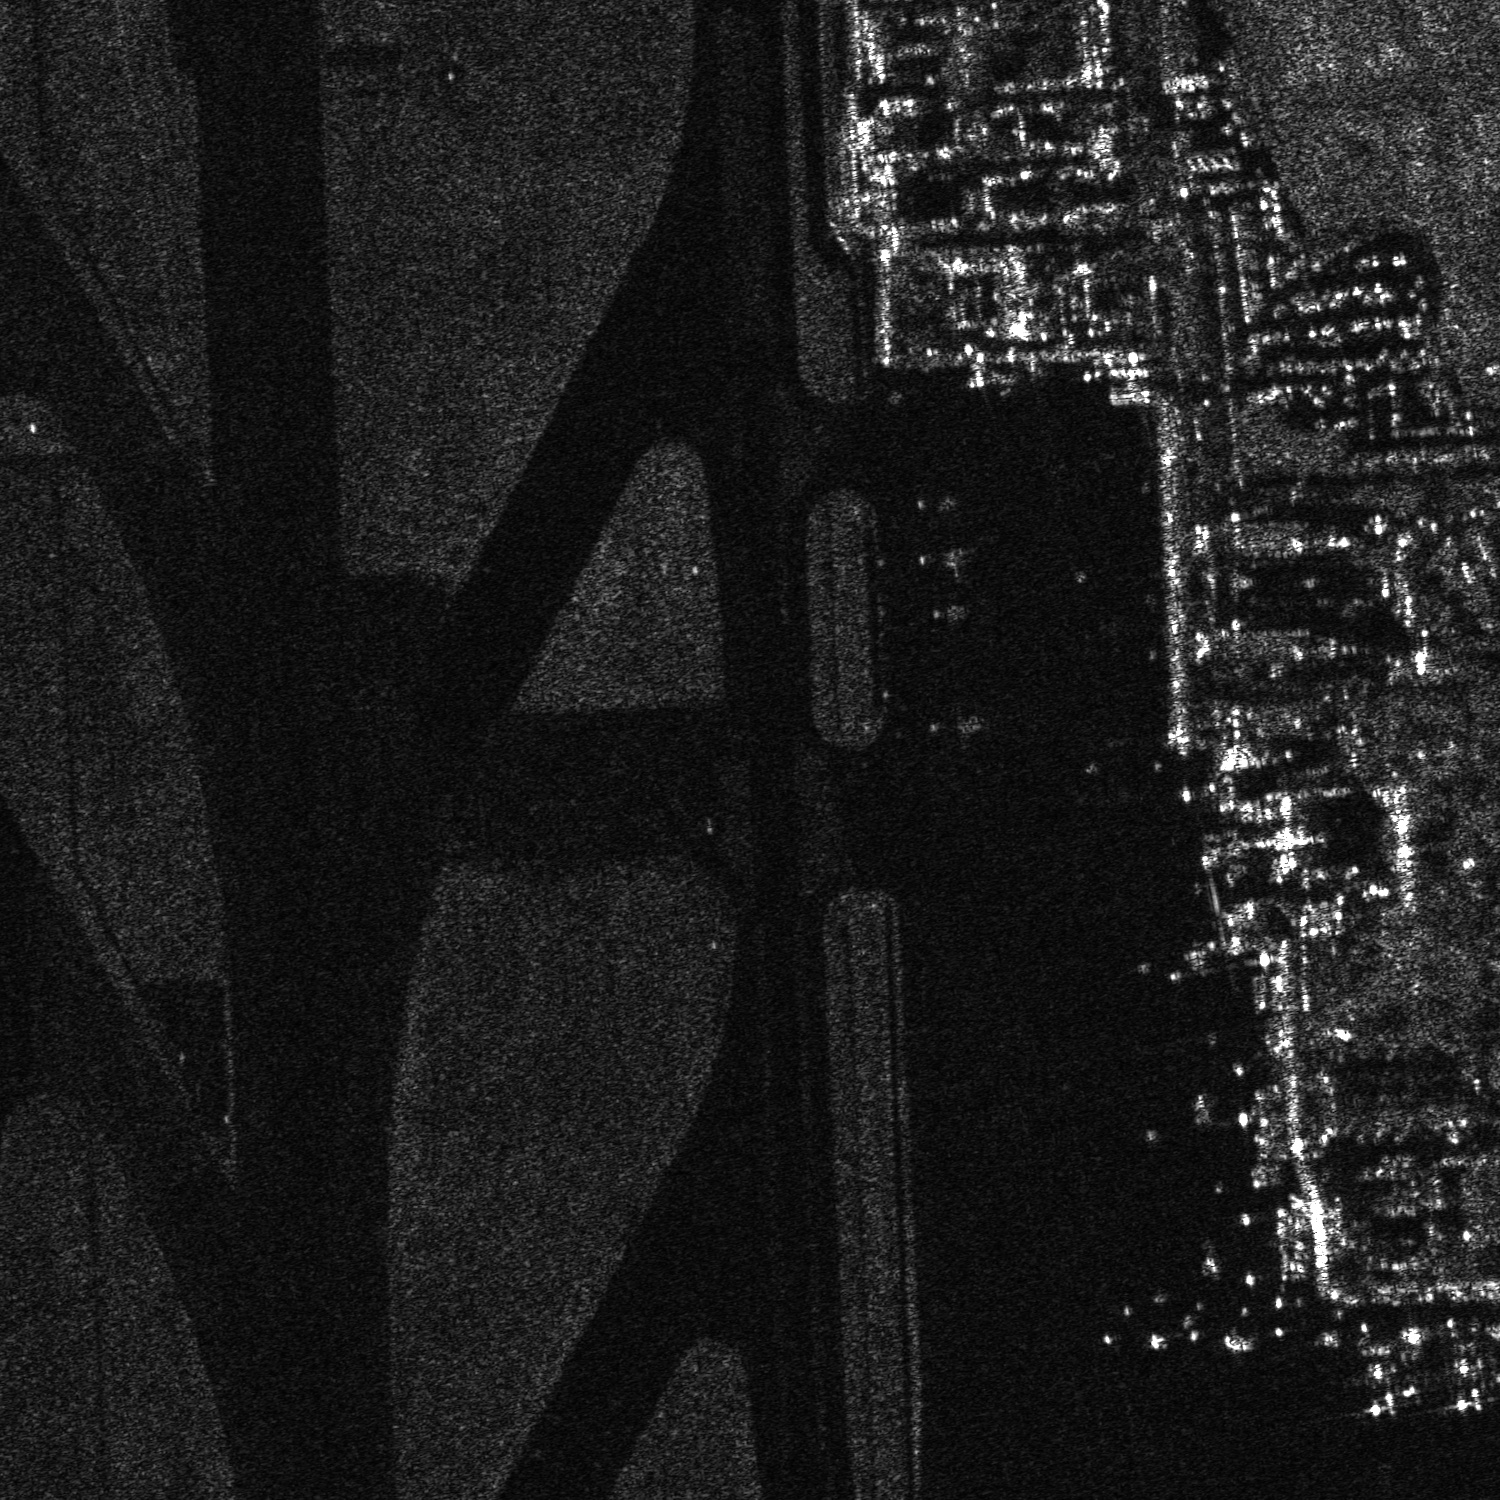ARJ21: (904, 538, 985, 589), (920, 592, 978, 633)
Boeing737: (1346, 1332, 1422, 1420)
other: (1429, 1337, 1493, 1419), (924, 701, 993, 753), (912, 488, 968, 516)
